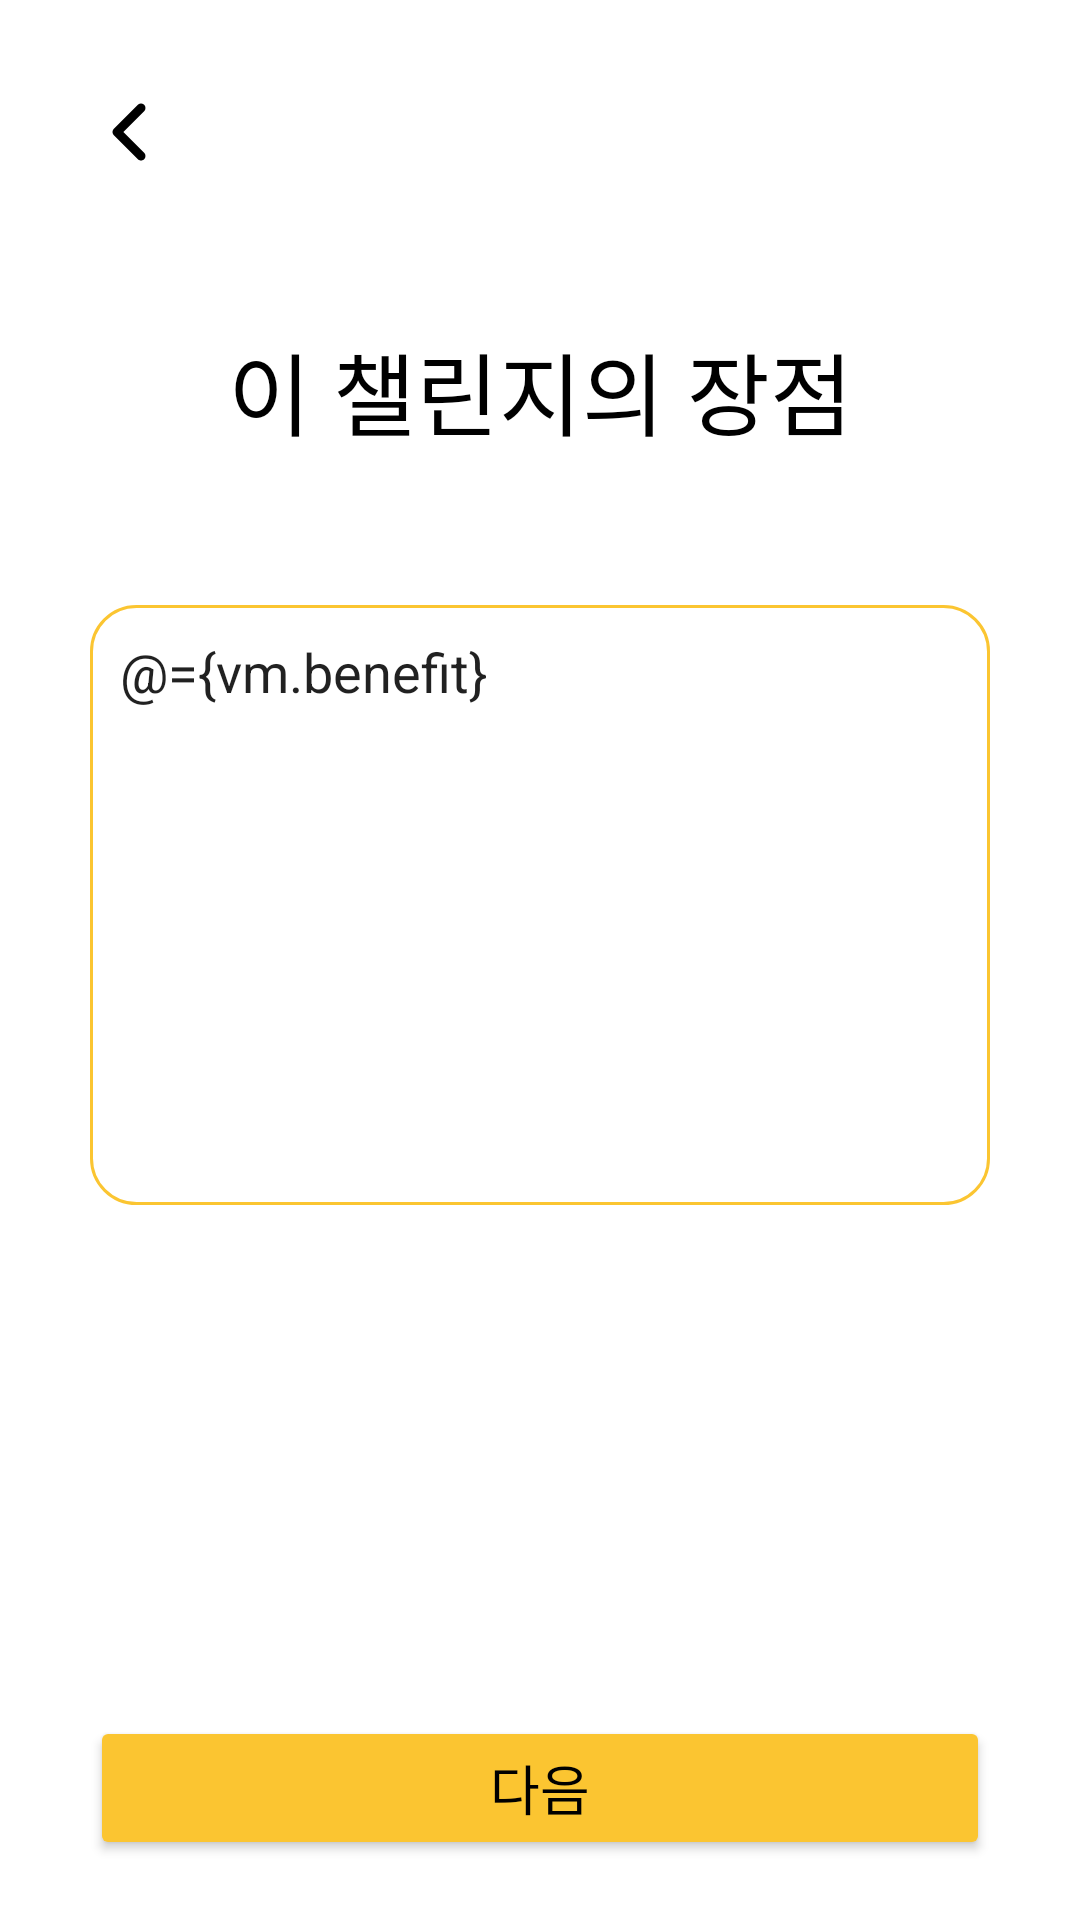

Screen size 1080w x 1920h. Icon name, then its box in pixels as bbox(x1, y1, x2, y2):
back: bbox(112, 103, 146, 161)
